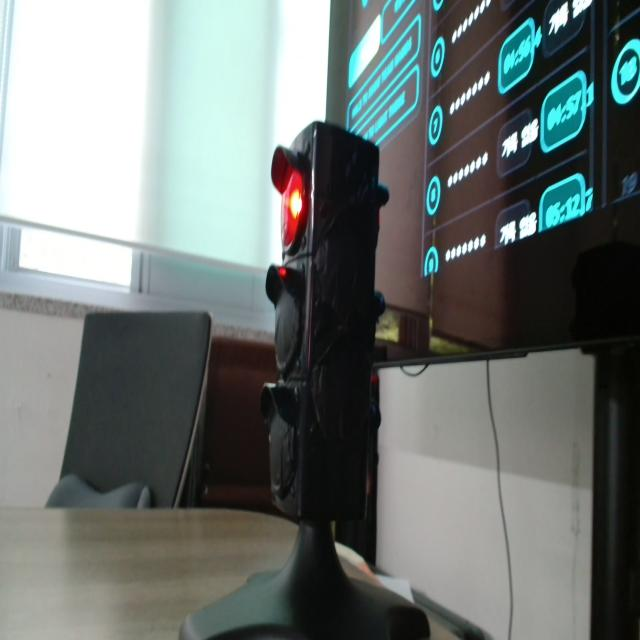red_light: (281, 169, 304, 250), (278, 267, 286, 278)
